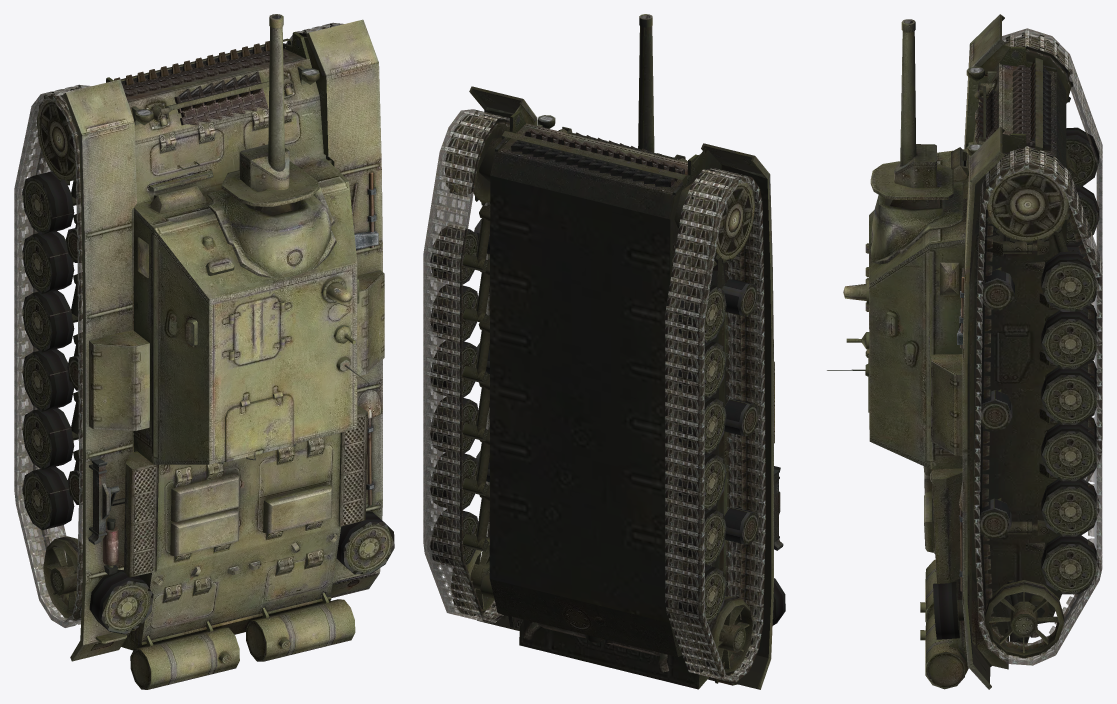
The picture shows the model from 3 angles, left to right: view 1: azimuth 30°, elevation 25°; view 2: azimuth 150°, elevation 25°; view 3: azimuth 270°, elevation 25°; orthographic projection. The views are drawn at different scales.
Visible parts, largest first — view 1: hull, chassis_track_L, gun_01, chassis_wheel_L_01, chassis_wheel_L_04, chassis_wheel_L_07, chassis_wheel_L_06, chassis_wheel_L_02, chassis_wheel_L_03, chassis_wheel_L_05, chassis_wheel_L_08; view 2: hull, chassis_track_L, chassis_track_R, chassis_wheel_L_01, chassis_wheel_L_08, chassis_wheel_R_01, gun_01, chassis_wheel_L_02, chassis_wheel_L_07, chassis_wheel_L_03, chassis_wheel_L_05, chassis_wheel_L_04 (+11 smaller); view 3: hull, chassis_track_R, chassis_wheel_R_01, gun_01, chassis_track_L, chassis_wheel_R_08, chassis_wheel_R_07, chassis_wheel_R_03, chassis_wheel_R_02, chassis_wheel_R_05, chassis_wheel_R_04, chassis_wheel_R_06 (+6 smaller).
Part boxes in pixels (x1=…): hull: x1=63, y1=19, x2=394, y2=689; chassis_track_L: x1=14, y1=84, x2=91, y2=627; gun_01: x1=221, y1=14, x2=319, y2=215; chassis_wheel_L_01: x1=36, y1=85, x2=81, y2=185; chassis_wheel_L_04: x1=22, y1=290, x2=74, y2=352; chassis_wheel_L_07: x1=22, y1=466, x2=74, y2=530; chassis_wheel_L_06: x1=22, y1=408, x2=74, y2=469; chassis_wheel_L_02: x1=22, y1=171, x2=74, y2=234; chassis_wheel_L_03: x1=22, y1=231, x2=74, y2=293; chassis_wheel_L_05: x1=22, y1=349, x2=74, y2=411; chassis_wheel_L_08: x1=43, y1=536, x2=82, y2=620; hull: x1=462, y1=86, x2=785, y2=689; chassis_track_L: x1=665, y1=168, x2=765, y2=682; chassis_track_R: x1=423, y1=109, x2=509, y2=623; chassis_wheel_L_01: x1=684, y1=168, x2=755, y2=264; chassis_wheel_L_08: x1=700, y1=596, x2=752, y2=676; chassis_wheel_R_01: x1=444, y1=110, x2=509, y2=205; gun_01: x1=638, y1=14, x2=654, y2=152; chassis_wheel_L_02: x1=677, y1=282, x2=726, y2=343; chassis_wheel_L_07: x1=677, y1=565, x2=726, y2=623; chassis_wheel_L_03: x1=677, y1=341, x2=726, y2=399; chassis_wheel_L_05: x1=677, y1=453, x2=726, y2=511; chassis_wheel_L_04: x1=677, y1=397, x2=726, y2=454; hull: x1=827, y1=14, x2=1076, y2=689; chassis_track_R: x1=973, y1=146, x2=1102, y2=665; chassis_wheel_R_01: x1=981, y1=150, x2=1072, y2=244; gun_01: x1=870, y1=19, x2=953, y2=209; chassis_track_L: x1=1002, y1=28, x2=1102, y2=481; chassis_wheel_R_08: x1=984, y1=580, x2=1064, y2=658; chassis_wheel_R_07: x1=1041, y1=535, x2=1099, y2=594; chassis_wheel_R_03: x1=1041, y1=310, x2=1099, y2=369; chassis_wheel_R_02: x1=1041, y1=251, x2=1099, y2=311; chassis_wheel_R_05: x1=1041, y1=423, x2=1099, y2=481; chassis_wheel_R_04: x1=1041, y1=367, x2=1099, y2=424; chassis_wheel_R_06: x1=1041, y1=479, x2=1099, y2=536.
Size of the model in its own units: 3.03 by 6.39 by 2.66.
Materials: 2 (2 with a texture image).
